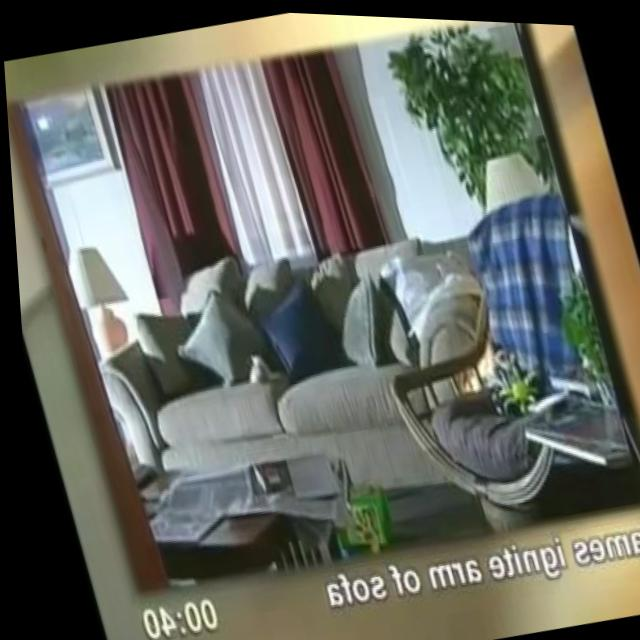fire: (446, 330, 499, 397)
